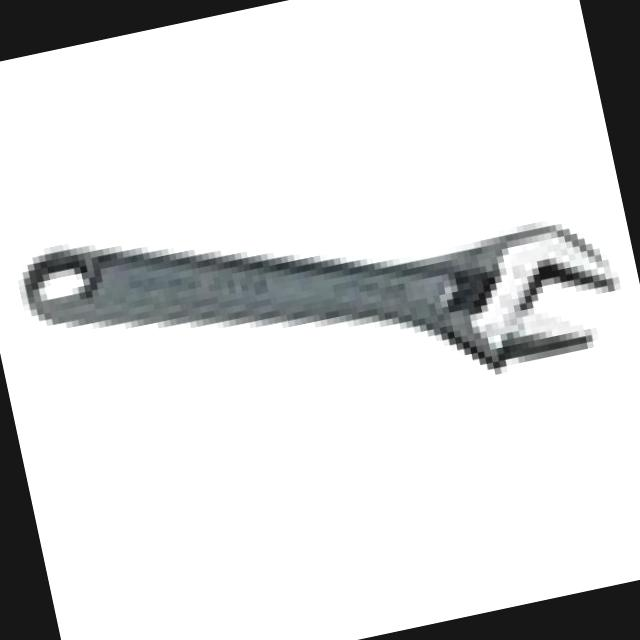wrench: (22, 224, 615, 370)
